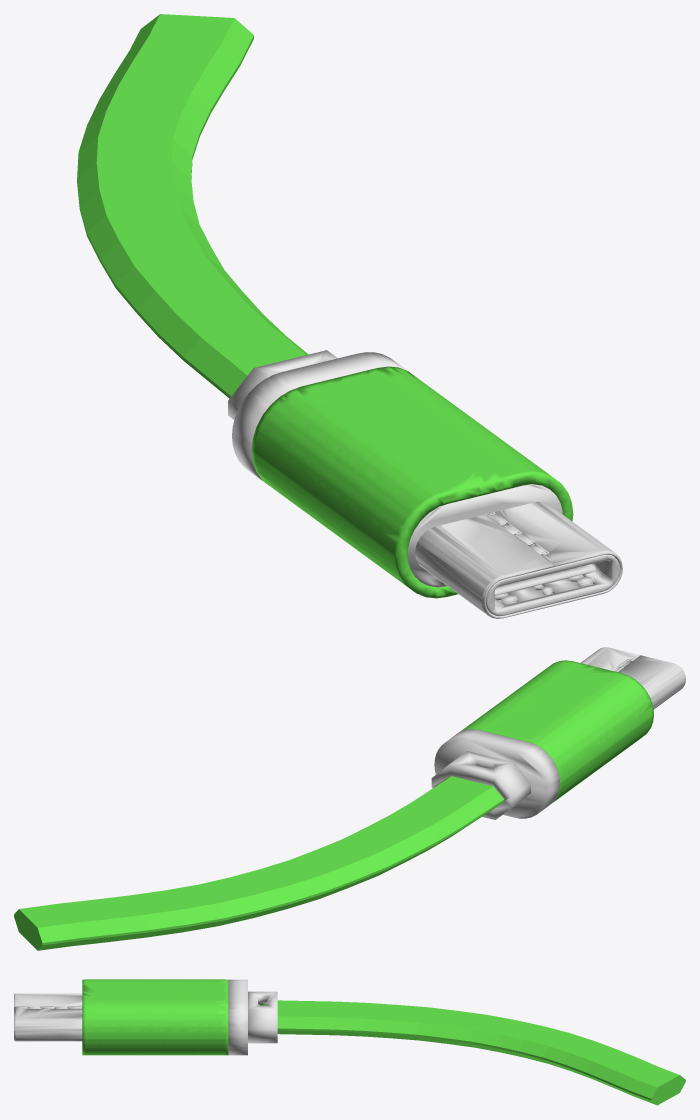
File: usb.glb
3 views of the same model, one above another, from view 1: azimuth 30°, elevation 25°; view 2: azimuth 150°, elevation 25°; view 3: azimuth 270°, elevation 25° (orthographic). The views are drawn at different scales.
Parts seen in each view (by area): view 1: usb_cable; view 2: usb_cable; view 3: usb_cable.
Part boxes in pixels (box(x1,y1,x2,y2)): usb_cable: box(77, 14, 622, 618); usb_cable: box(14, 647, 685, 950); usb_cable: box(14, 979, 685, 1105).
Size of the model in its own units: 2.49 by 0.5805 by 6.82.
